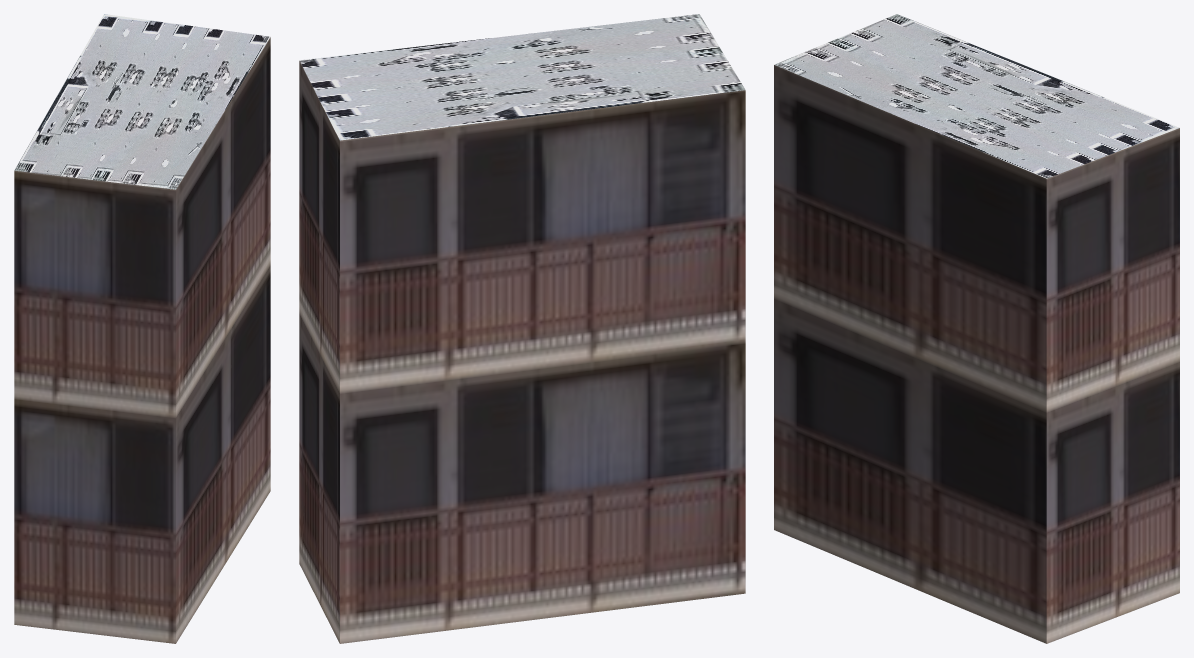
The model's file is ResTex__1424.fbx.
The picture shows the model from 3 angles, left to right: view 1: azimuth 30°, elevation 25°; view 2: azimuth 150°, elevation 25°; view 3: azimuth 270°, elevation 25°; orthographic projection. The views are drawn at different scales.
Parts seen in each view (by area): view 1: CityEngineMaterial_6_m, CityEngineMaterial_4_m; view 2: CityEngineMaterial_6_m, CityEngineMaterial_4_m; view 3: CityEngineMaterial_6_m, CityEngineMaterial_4_m.
Part boxes in pixels (x1,y1,x2,y2): CityEngineMaterial_6_m: (14,37,270,643); CityEngineMaterial_4_m: (14,14,270,189); CityEngineMaterial_6_m: (299,61,745,643); CityEngineMaterial_4_m: (299,14,745,140); CityEngineMaterial_6_m: (774,65,1179,643); CityEngineMaterial_4_m: (774,14,1179,178).
Size of the model in its own units: 4.56 by 6 by 4.74.
Materials: 2 (2 with a texture image).
